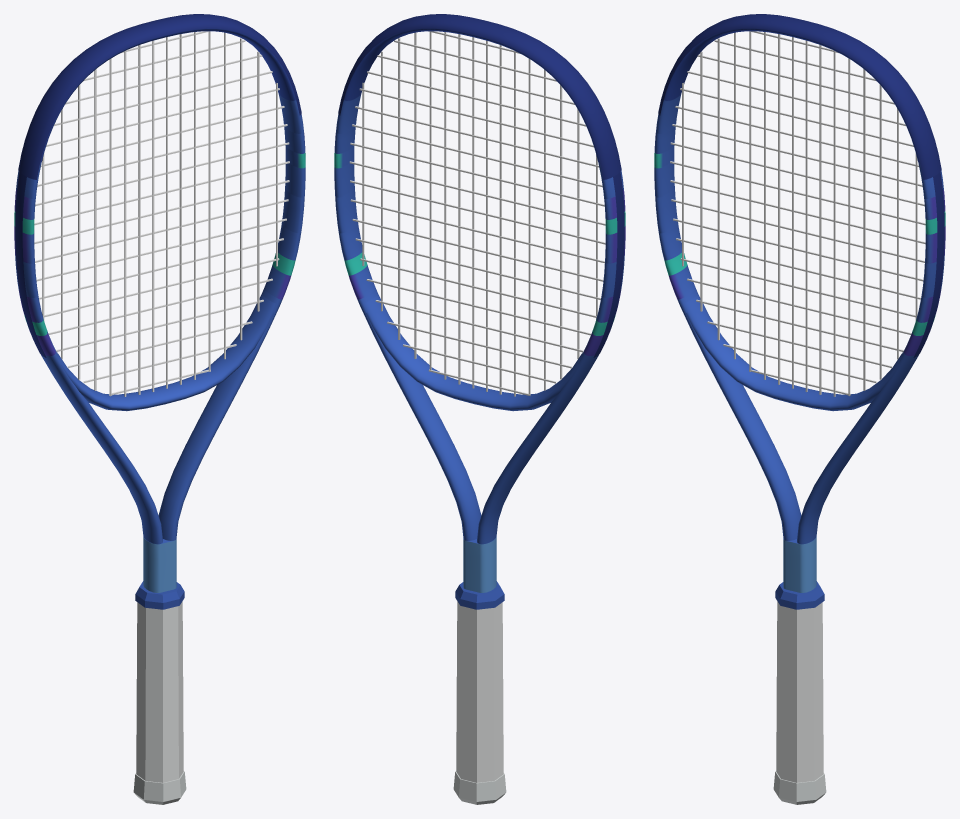
File: yonex-ezone-100.glb
The picture shows the model from 3 angles, left to right: view 1: azimuth 30°, elevation 25°; view 2: azimuth 150°, elevation 25°; view 3: azimuth 330°, elevation 25°; orthographic projection.
Visible parts, largest first — view 1: frame, strings_mains, strings_crosses, grip, bumper, grommets, butt_cap, collar; view 2: frame, strings_mains, strings_crosses, grip, bumper, grommets, butt_cap, collar; view 3: frame, strings_mains, strings_crosses, grip, bumper, grommets, butt_cap, collar.
Boxes of the visible parts, bbox=[...] form: frame: bbox=[14, 28, 305, 592]; strings_mains: bbox=[42, 31, 277, 396]; strings_crosses: bbox=[34, 31, 289, 395]; grip: bbox=[136, 601, 183, 782]; bumper: bbox=[18, 14, 301, 179]; grommets: bbox=[15, 172, 46, 357]; butt_cap: bbox=[133, 771, 186, 804]; collar: bbox=[135, 581, 184, 609]; frame: bbox=[334, 28, 625, 592]; strings_mains: bbox=[362, 32, 597, 396]; strings_crosses: bbox=[349, 31, 605, 395]; grip: bbox=[456, 601, 503, 782]; bumper: bbox=[338, 14, 621, 179]; grommets: bbox=[593, 172, 624, 357]; butt_cap: bbox=[453, 771, 506, 804]; collar: bbox=[455, 581, 504, 609]; frame: bbox=[654, 28, 945, 592]; strings_mains: bbox=[682, 31, 917, 396]; strings_crosses: bbox=[670, 31, 925, 395]; grip: bbox=[776, 601, 823, 782]; bumper: bbox=[658, 14, 941, 179]; grommets: bbox=[913, 172, 944, 357]; butt_cap: bbox=[773, 771, 826, 804]; collar: bbox=[775, 581, 824, 609].
Bounding box in the file's own units: 0.2636 × 0.6861 × 0.0396.
